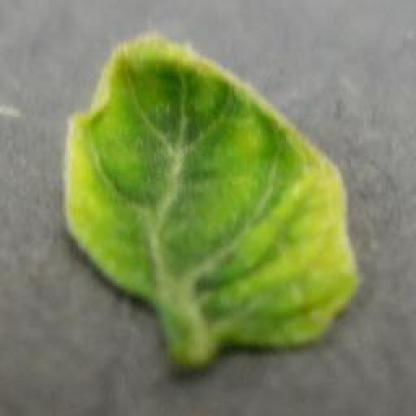bad leaf: (55, 20, 336, 364)
